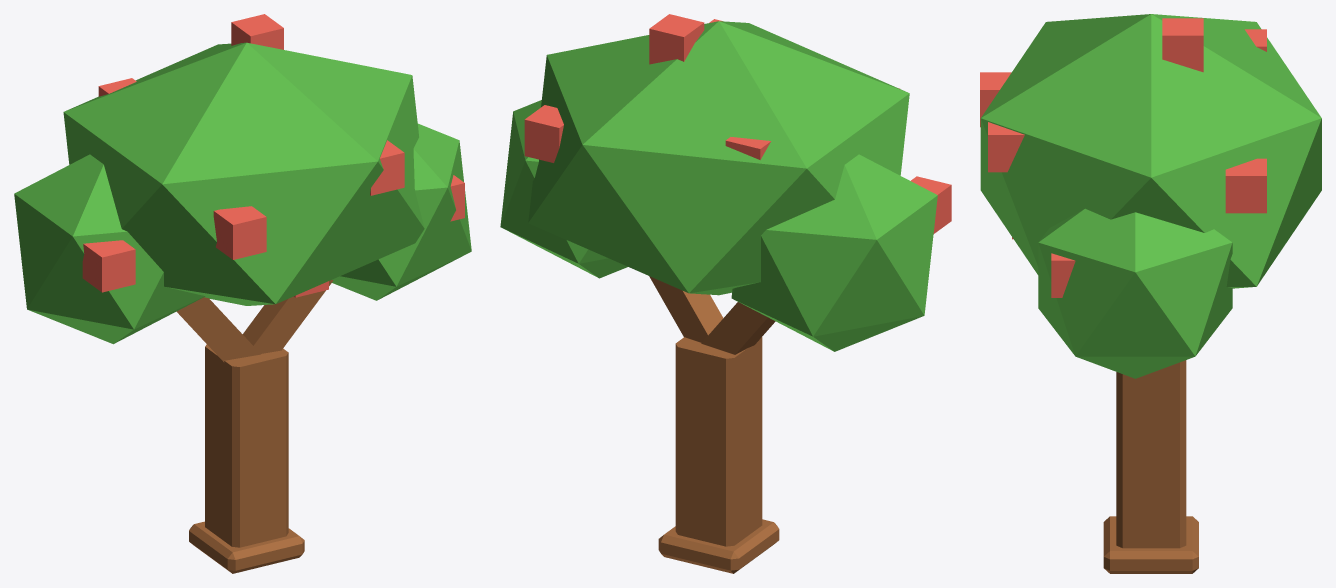
The model's file is tree-blossom.glb.
3 views of the same model, side by side, from view 1: azimuth 30°, elevation 25°; view 2: azimuth 150°, elevation 25°; view 3: azimuth 270°, elevation 25° (orthographic). The views are drawn at different scales.
Parts seen in each view (by area): view 1: tree-blossom; view 2: tree-blossom; view 3: tree-blossom.
Boxes of the visible parts, <box> form: tree-blossom: <box>14,14,471,573</box>; tree-blossom: <box>500,14,951,573</box>; tree-blossom: <box>980,14,1321,573</box>.
Bounding box in the file's own units: 3.21 × 3.78 × 2.16.
